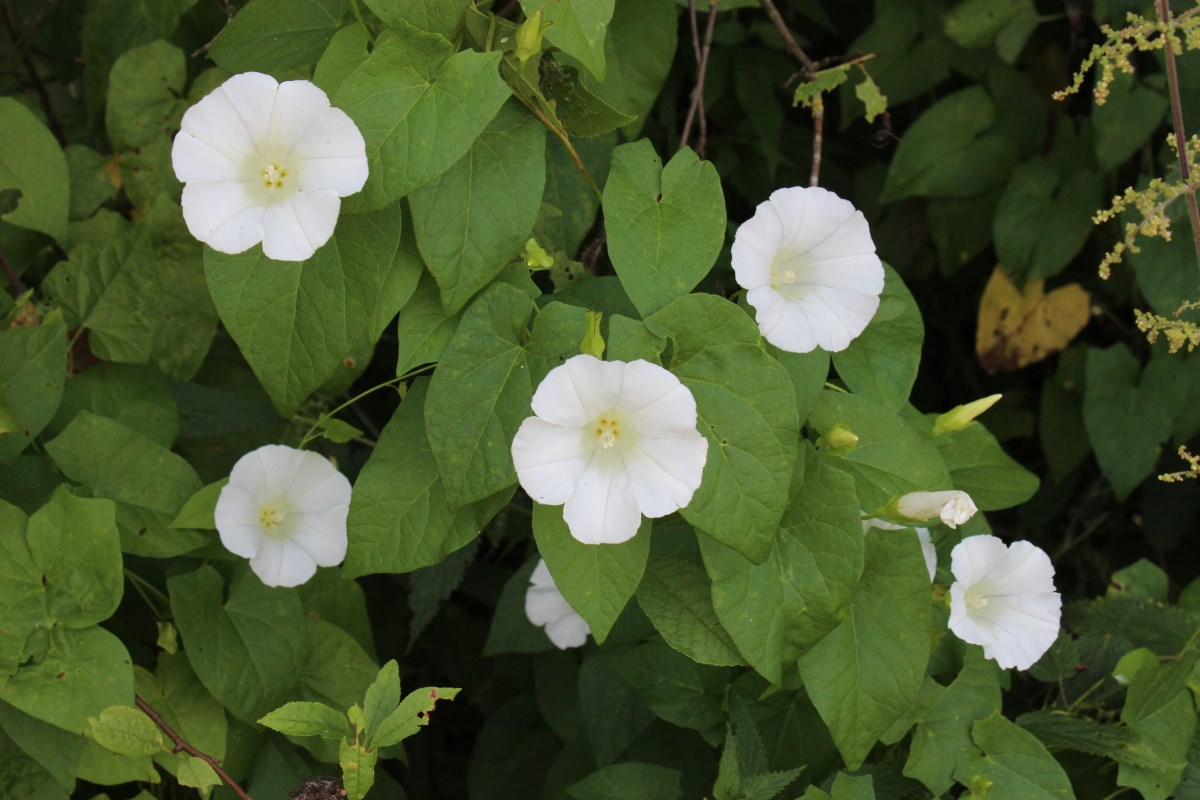haagwinde: (713, 391, 1089, 777), (420, 240, 709, 580), (153, 50, 377, 302), (206, 380, 388, 630), (725, 119, 900, 379)
